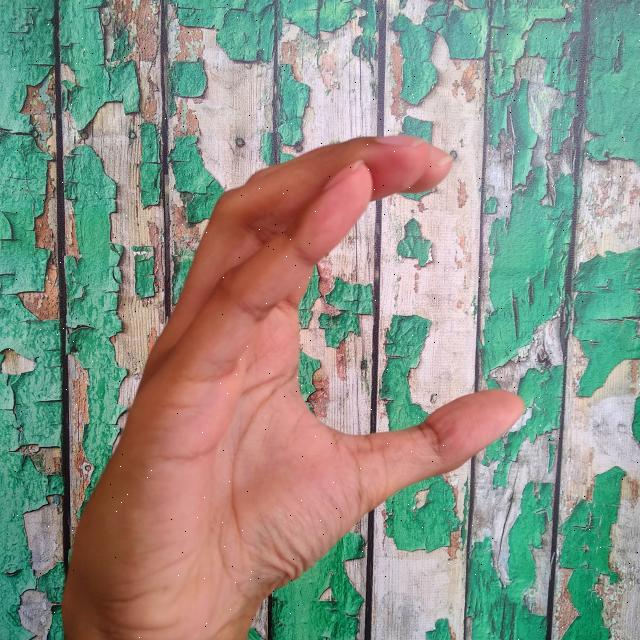C: (59, 128, 533, 640)
